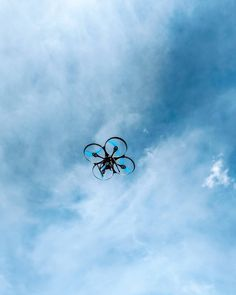drone: (81, 136, 135, 181)
